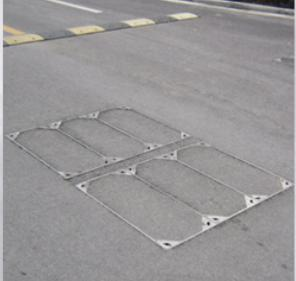wellcover: (6, 98, 296, 257)
